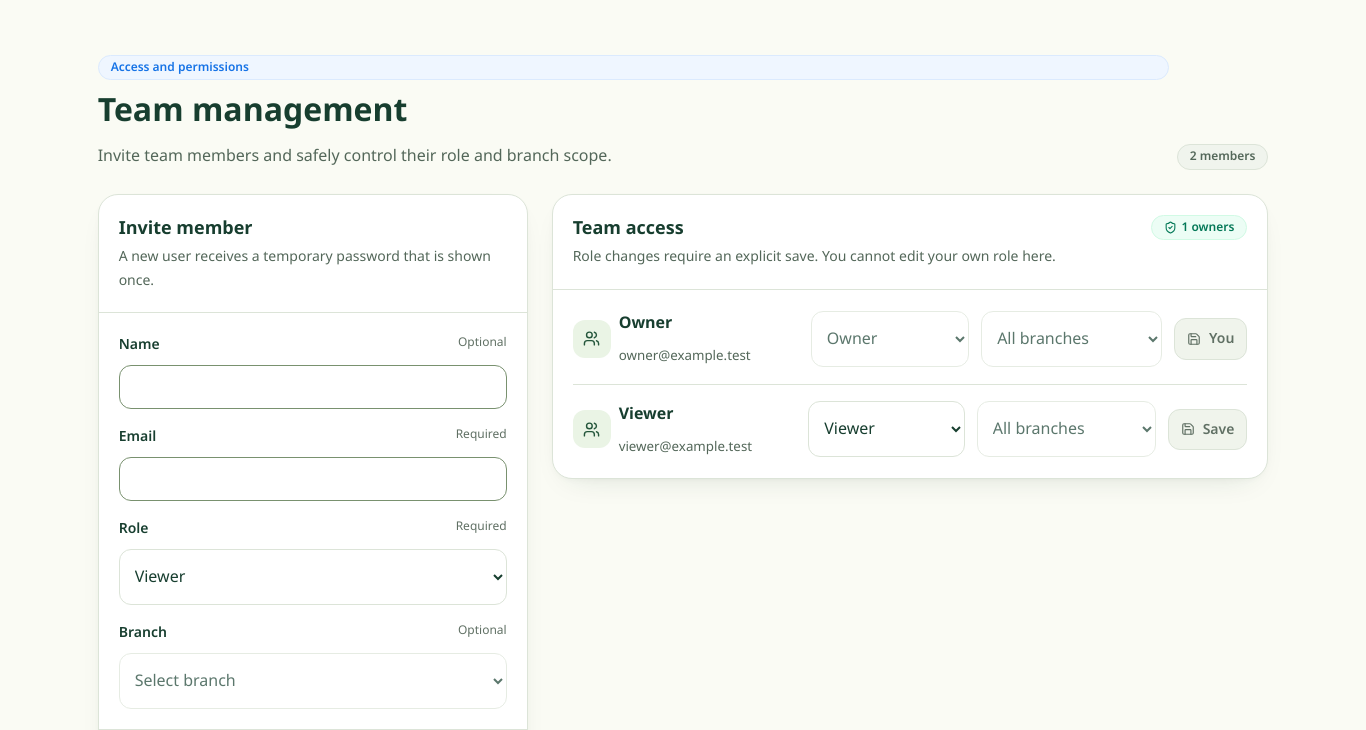
Test: branch and team management › updates a member role with an explicit branch scope
Check: the text "viewer@example.test" is shown, box x1=619 y1=436 x2=752 y2=458
Select "Branch manager" in the dropdown named "Role viewer@example.test". click: (887, 430)
box: x1=808 y1=402 x2=965 y2=458
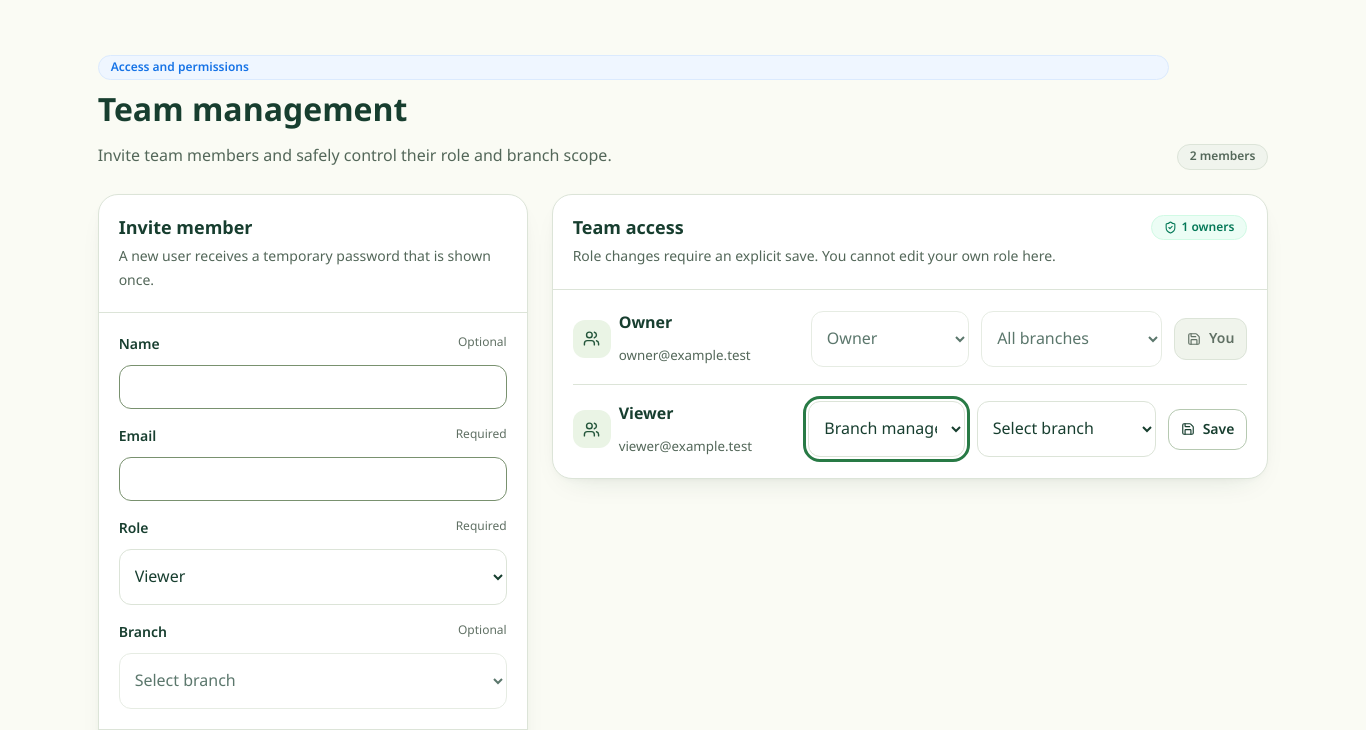
Select "MAIN — Main Branch" in the dropdown named "Branch viewer@example.test". click: (1066, 430)
box: x1=977 y1=402 x2=1156 y2=458
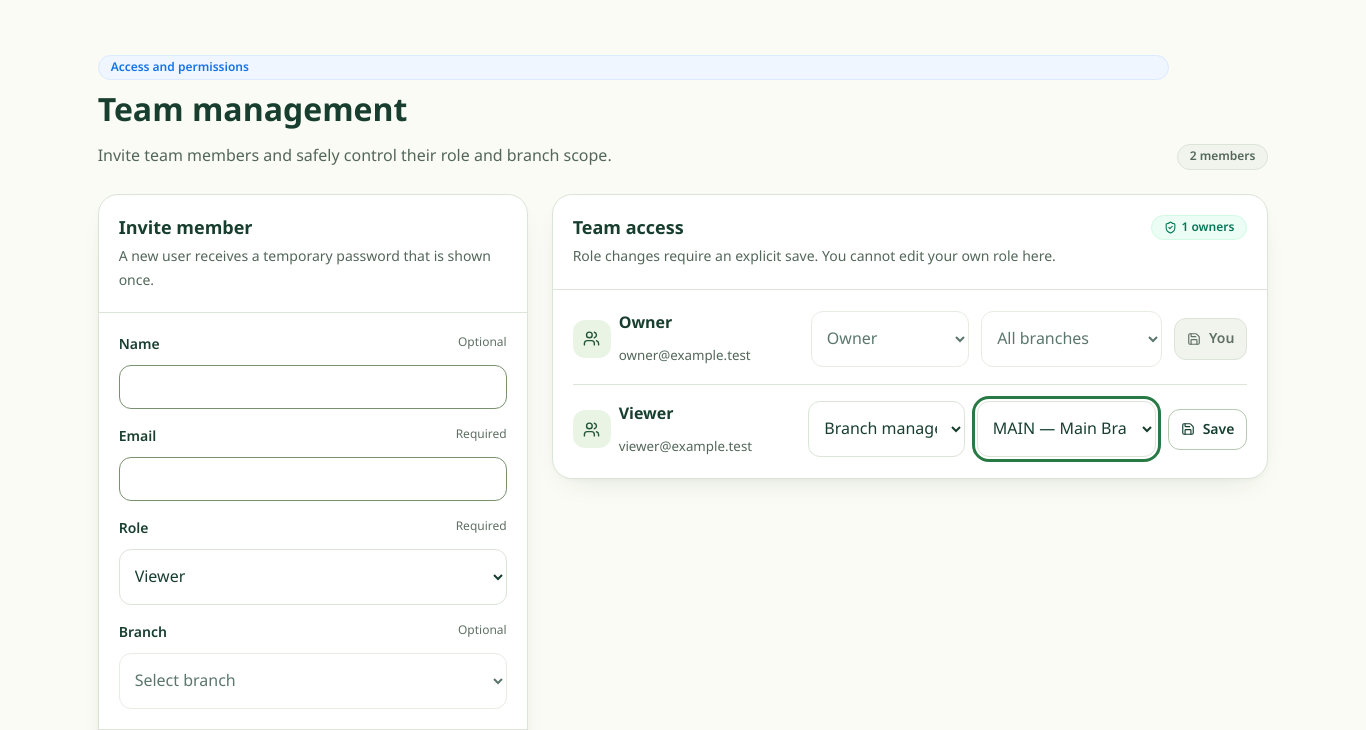
Click the button "Save". click: (1208, 429)
box: x1=1168 y1=408 x2=1247 y2=450
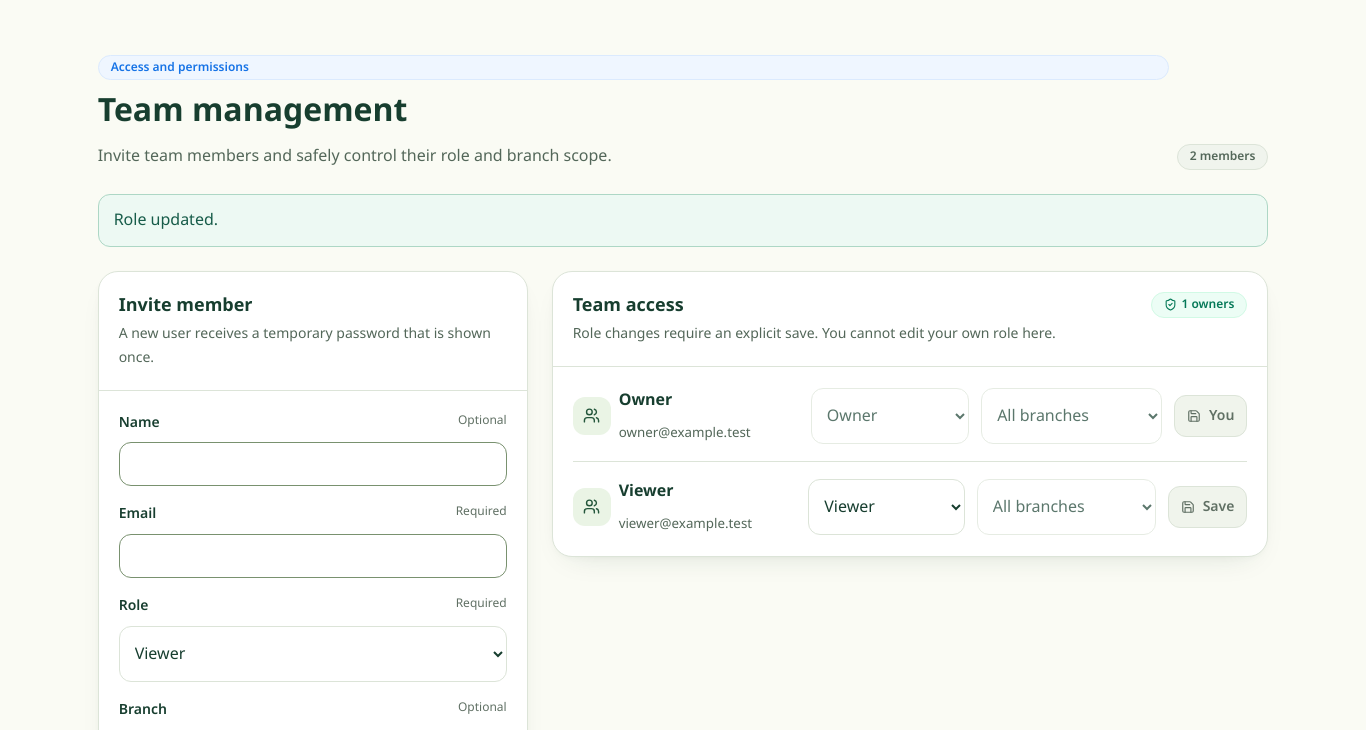
Check: the text "Role updated." is shown, box x1=98 y1=194 x2=1268 y2=247
